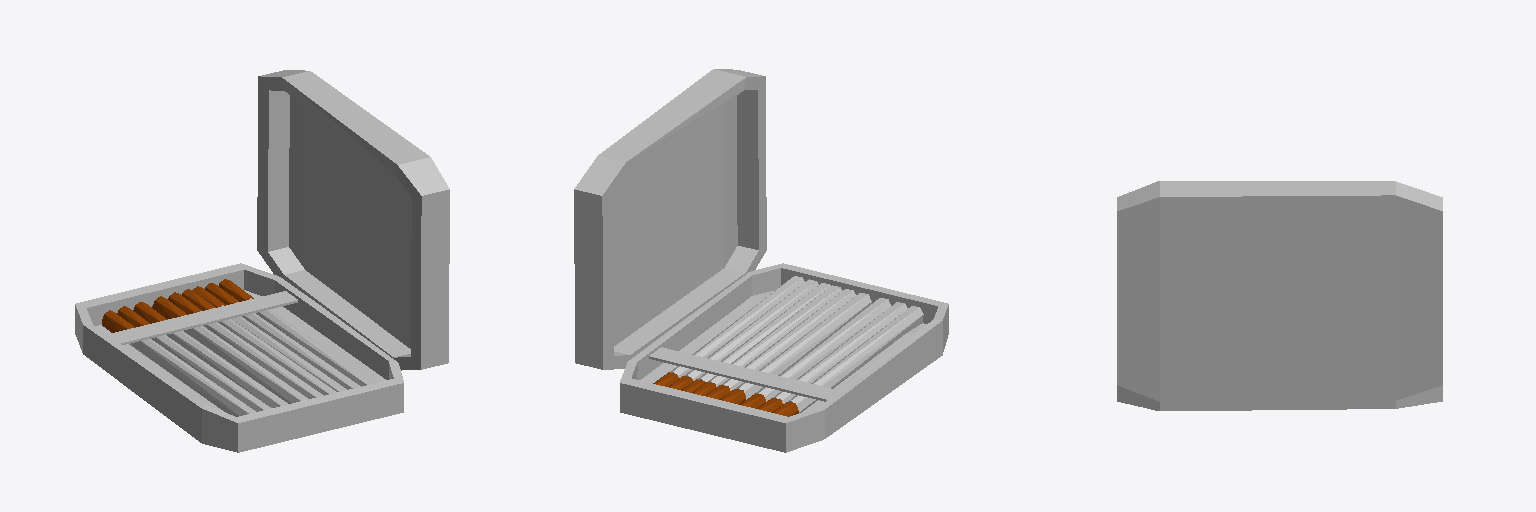
Rendered from cigarreira.obj.
3 renders of one model, left to right at view 1: azimuth 30°, elevation 25°; view 2: azimuth 150°, elevation 25°; view 3: azimuth 270°, elevation 25°, orthographic.
Parts seen in each view (by area): view 1: Cube.001, Cube, Cylinder, Cylinder.001_Cylinder.005; view 2: Cube.001, Cube, Cylinder, Cylinder.001_Cylinder.005; view 3: Cube.001, Cube.
Boxes of the visible parts, x1=… form: Cube.001: x1=257, y1=70, x2=449, y2=370; Cube: x1=75, y1=263, x2=403, y2=452; Cylinder: x1=129, y1=298, x2=374, y2=416; Cylinder.001_Cylinder.005: x1=102, y1=279, x2=253, y2=332; Cube.001: x1=574, y1=69, x2=766, y2=369; Cube: x1=620, y1=263, x2=948, y2=452; Cylinder: x1=670, y1=276, x2=923, y2=413; Cylinder.001_Cylinder.005: x1=653, y1=372, x2=798, y2=416; Cube.001: x1=1117, y1=181, x2=1442, y2=401; Cube: x1=1117, y1=385, x2=1442, y2=410.
Size of the model in its own units: 2.77 by 2.66 by 3.41.